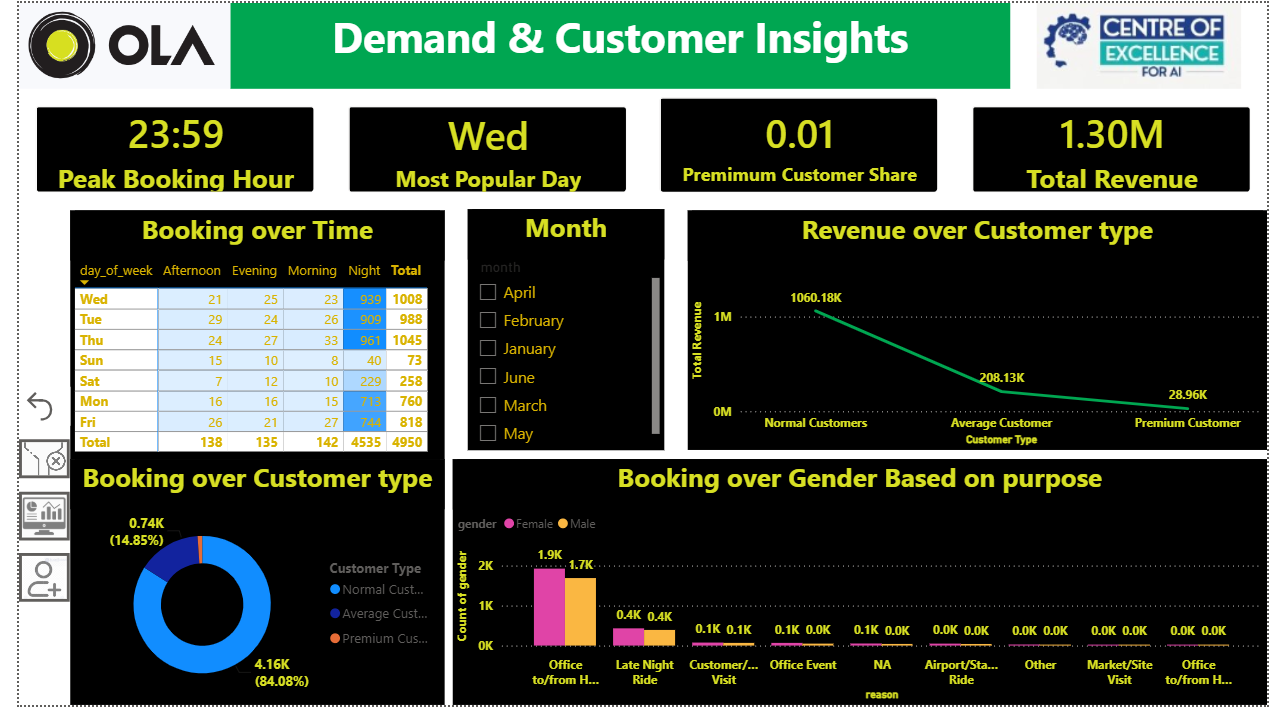

This screenshot's page, from the dashboard's own definition file:
{"tool":"powerbi","page":{"name":"Demand & Customer Insights","canvas":[1280,720],"ordinal":1},"visuals":[{"type":"cardVisual","fields":{"Data":["Data.Peak Booking Hour"]},"box":[0,88,320.4,123.5],"z":0},{"type":"cardVisual","fields":{"Data":["Data.Most Popular Day"]},"box":[320.4,88,320.4,123.5],"z":1000},{"type":"cardVisual","fields":{"Data":["Data.Premimum Customer Share%"]},"box":[639.5,79.5,320.4,132.1],"z":2000},{"type":"cardVisual","fields":{"Data":["Data.Total Revenue"]},"box":[959.9,88,320.4,123.5],"z":3000},{"type":"textbox","box":[216.4,0,799.7,88],"z":4000},{"type":"pivotTable","title":"Booking over Time","fields":{"Values":["CountNonNull(Data.booking id)"],"Rows":["Data.day_of_week"],"Columns":["Data.TimeOfDay"]},"box":[52.6,212.8,384,255.6],"z":5000},{"type":"lineChart","title":"Revenue over Customer type","fields":{"Category":["Data.Customer Type"],"Y":["Data.Total Revenue"]},"box":[686,212.8,594.3,245.8],"z":6000},{"type":"donutChart","title":"Booking over Customer type","fields":{"Y":["CountNonNull(Data.booking id)"],"Category":["Data.Customer Type"]},"box":[52.6,468.3,384,251.9],"z":7000},{"type":"clusteredColumnChart","title":"Booking over Gender Based on purpose","fields":{"Category":["Data.reason"],"Series":["Data.gender"],"Y":["CountNonNull(Data.gender)"]},"box":[445.1,468.3,835.2,251.9],"z":8000},{"type":"image","box":[1016.2,0,264.1,88],"z":9000},{"type":"slicer","title":"Month","fields":{"Values":["Data.month"]},"box":[459.8,211.6,201.8,247],"z":10000},{"type":"actionButton","box":[0,501.4,52,50],"z":11000},{"type":"actionButton","box":[0,563.7,52,50],"z":12000},{"type":"image","box":[0,0,216.4,88],"z":13000},{"type":"actionButton","box":[0,447.6,52,40],"z":14000},{"type":"actionButton","box":[1.2,393.8,52,40],"z":15000}]}

Visuals, with their boxes in screenshot pixels (x1, y1, x2, y2):
cardVisual - Data.Peak Booking Hour: [left=20, top=85, right=331, bottom=205]
cardVisual - Data.Most Popular Day: [left=331, top=85, right=642, bottom=205]
cardVisual - Data.Premimum Customer Share%: [left=641, top=77, right=952, bottom=205]
cardVisual - Data.Total Revenue: [left=952, top=85, right=1263, bottom=205]
textbox: [left=230, top=0, right=1006, bottom=85]
"Booking over Time" pivotTable: [left=71, top=207, right=444, bottom=455]
"Revenue over Customer type" lineChart: [left=686, top=207, right=1263, bottom=445]
"Booking over Customer type" donutChart: [left=71, top=455, right=444, bottom=699]
"Booking over Gender Based on purpose" clusteredColumnChart: [left=452, top=455, right=1263, bottom=699]
image: [left=1007, top=0, right=1263, bottom=85]
"Month" slicer: [left=466, top=205, right=662, bottom=445]
actionButton: [left=20, top=487, right=70, bottom=535]
actionButton: [left=20, top=547, right=70, bottom=596]
image: [left=20, top=0, right=230, bottom=85]
actionButton: [left=20, top=435, right=70, bottom=473]
actionButton: [left=21, top=382, right=72, bottom=421]
